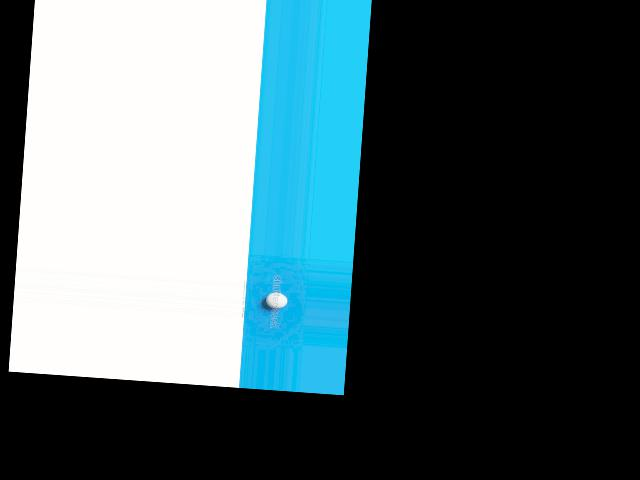egg: (265, 292, 288, 309)
